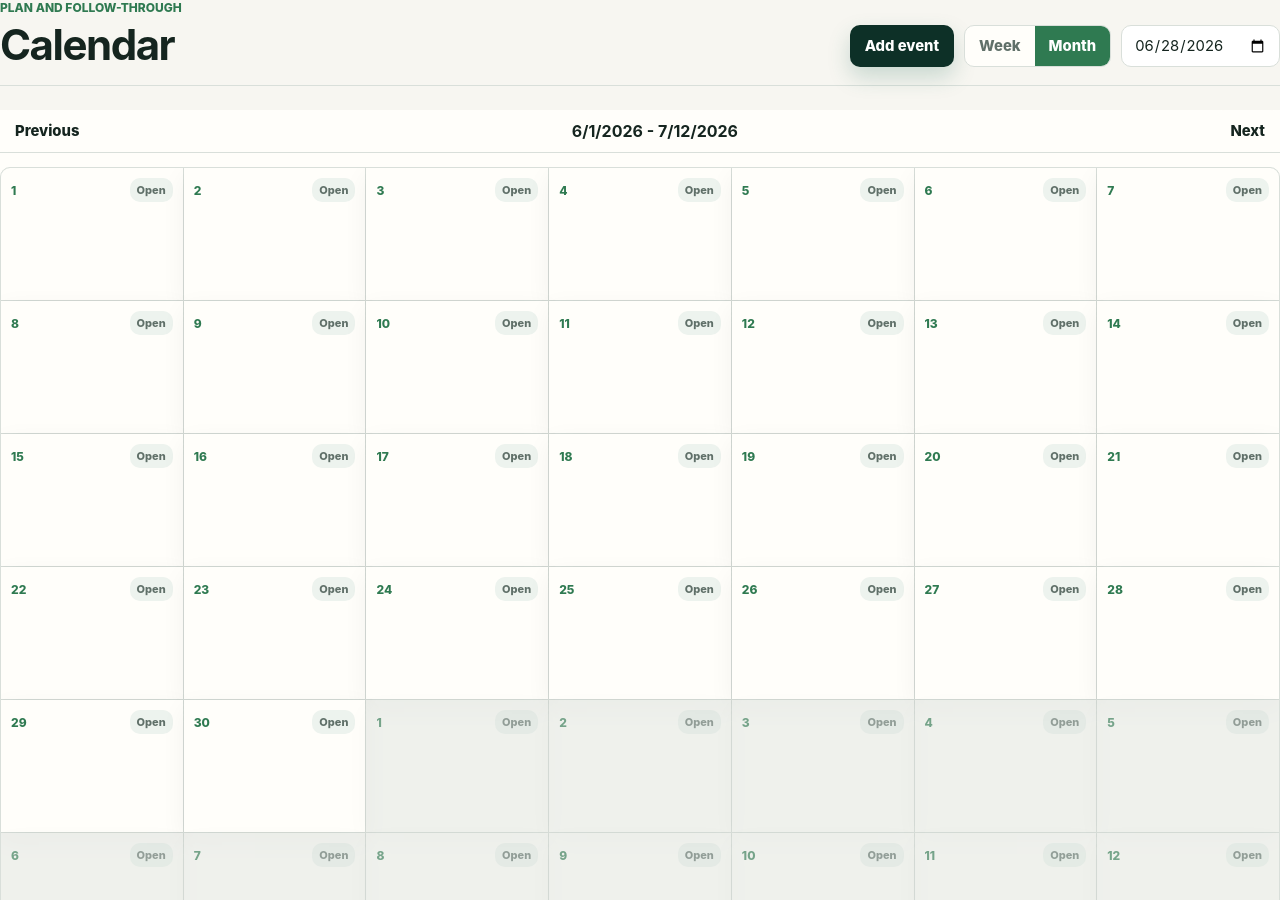
Test: CalendarPage › opens a day drawer and summarizes hidden month items
The width and height of the screenshot is (1280, 900).
Type "2026-05-05" into the date field named "Calendar date" at (1201, 46), box [1121,25,1279,67]
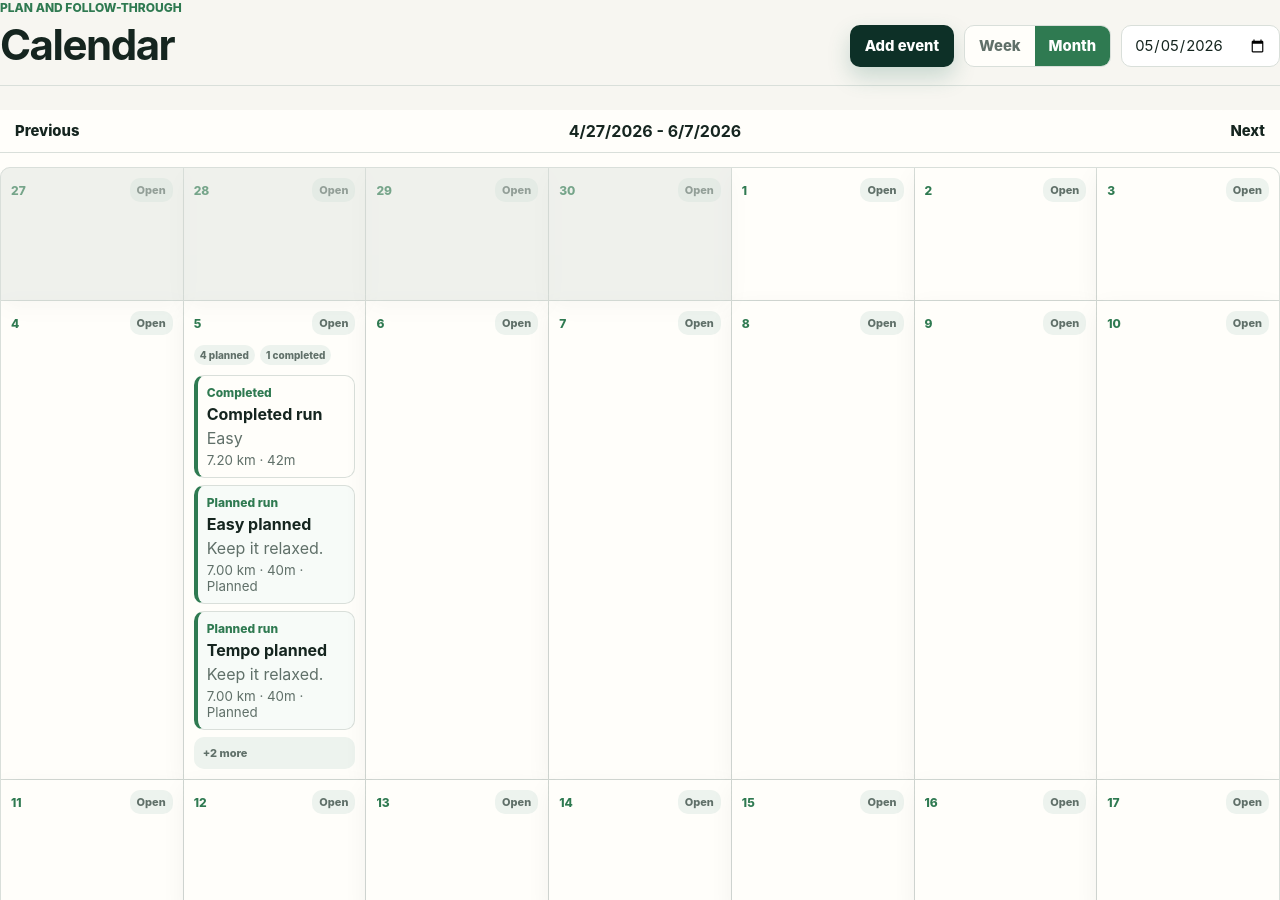
Expected: the button "+2 more" is shown, [194,737,355,769]
Click the button with aria-label "Open 5/5/2026" at (334, 323), box [312,311,355,335]
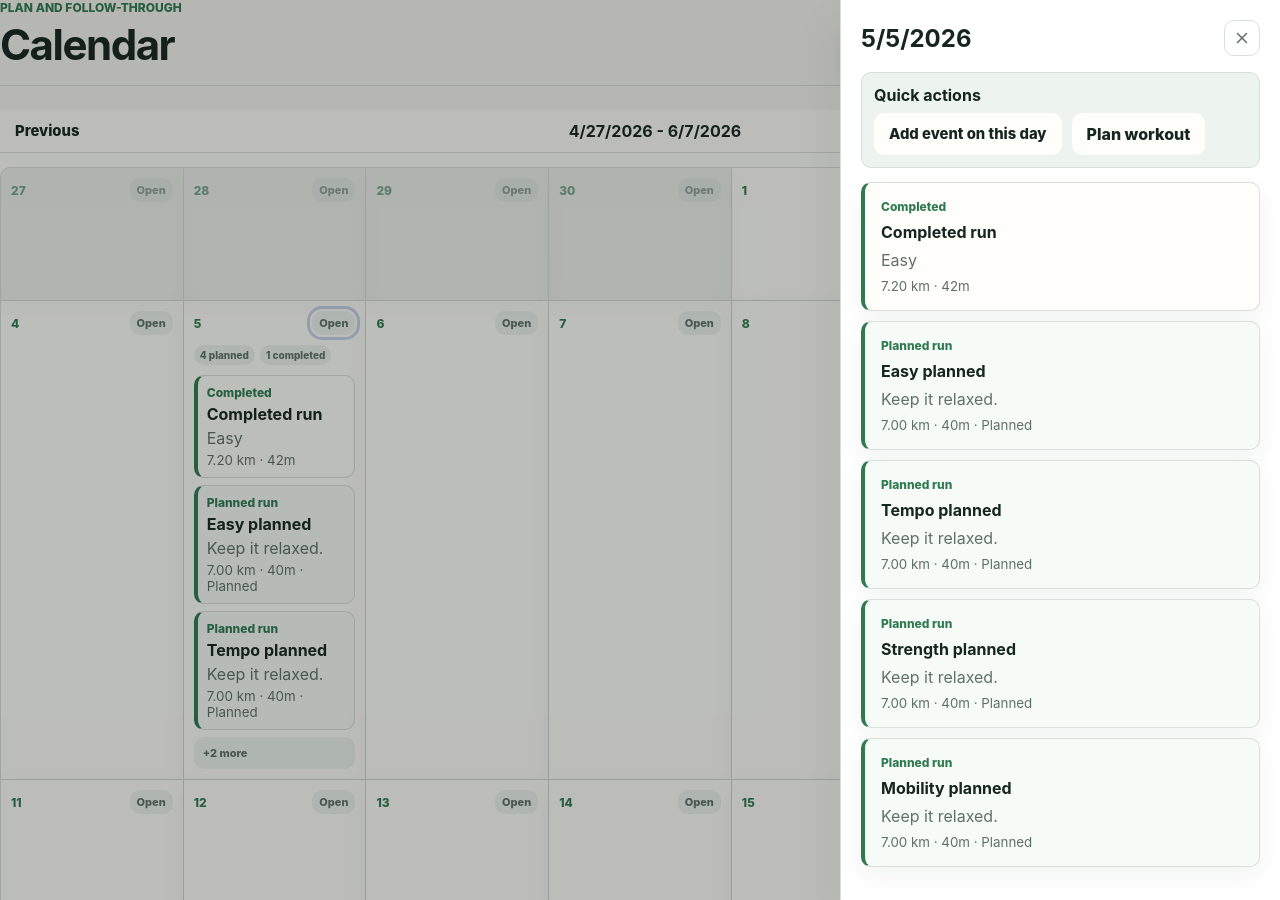
Expected: the dialog "5/5/2026" is shown, [840,0,1279,899]
Expected: the text "Mobility planned" is shown, [881,778,1012,798]
Expected: the text "Completed run" is shown, [881,222,997,242]
